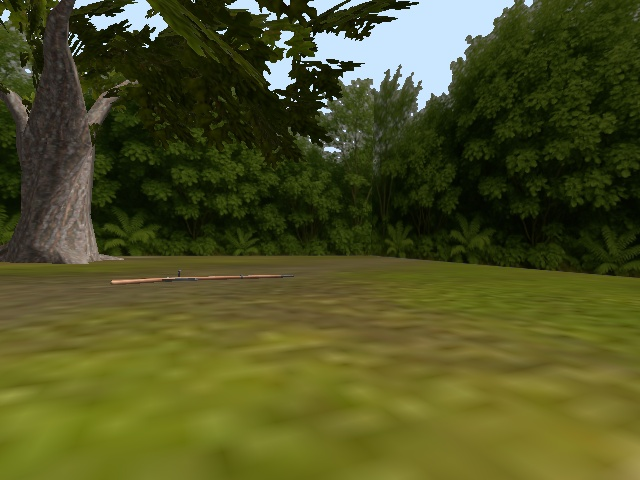rifle: (108, 270, 295, 288)
